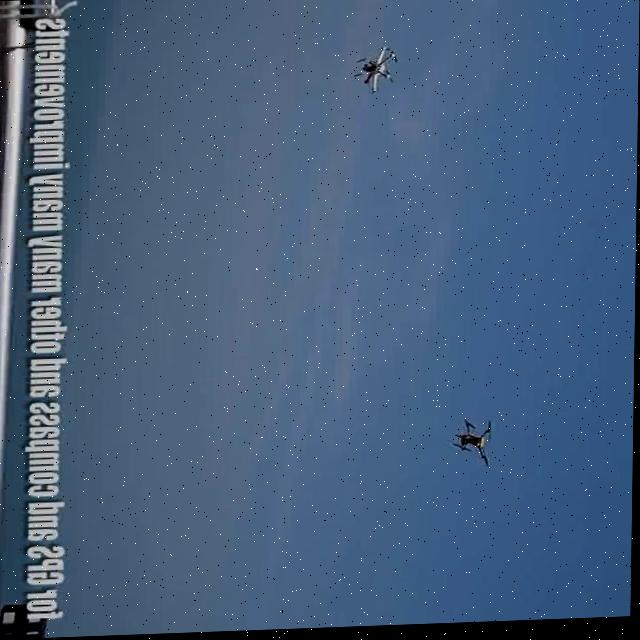drone: (455, 421, 502, 473)
